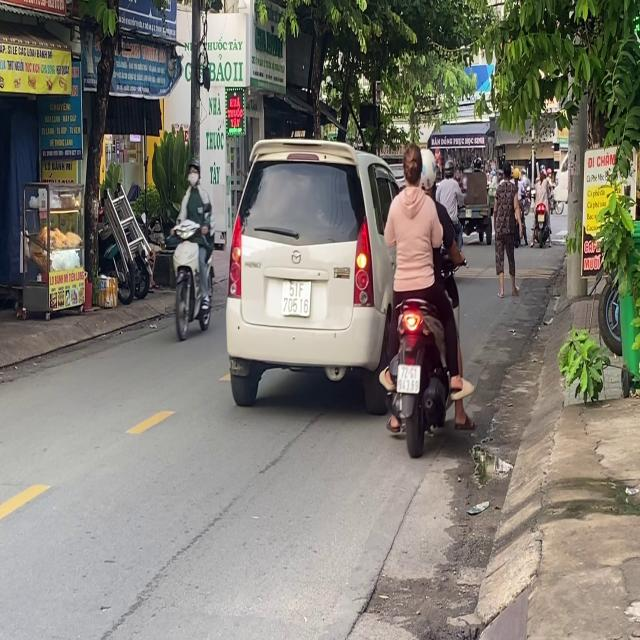helmet: (419, 145, 436, 193), (186, 158, 200, 188)
licenseplate: (376, 140, 470, 454), (167, 156, 215, 339)
motorcyclist: (400, 143, 423, 189)
nohelmet: (397, 364, 420, 393)
